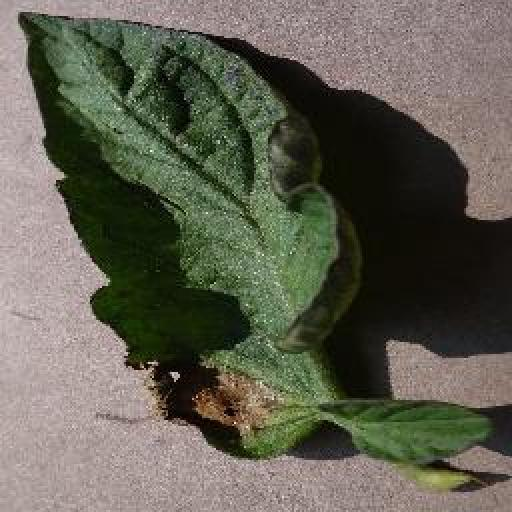disease_tomato: (13, 10, 363, 478)
